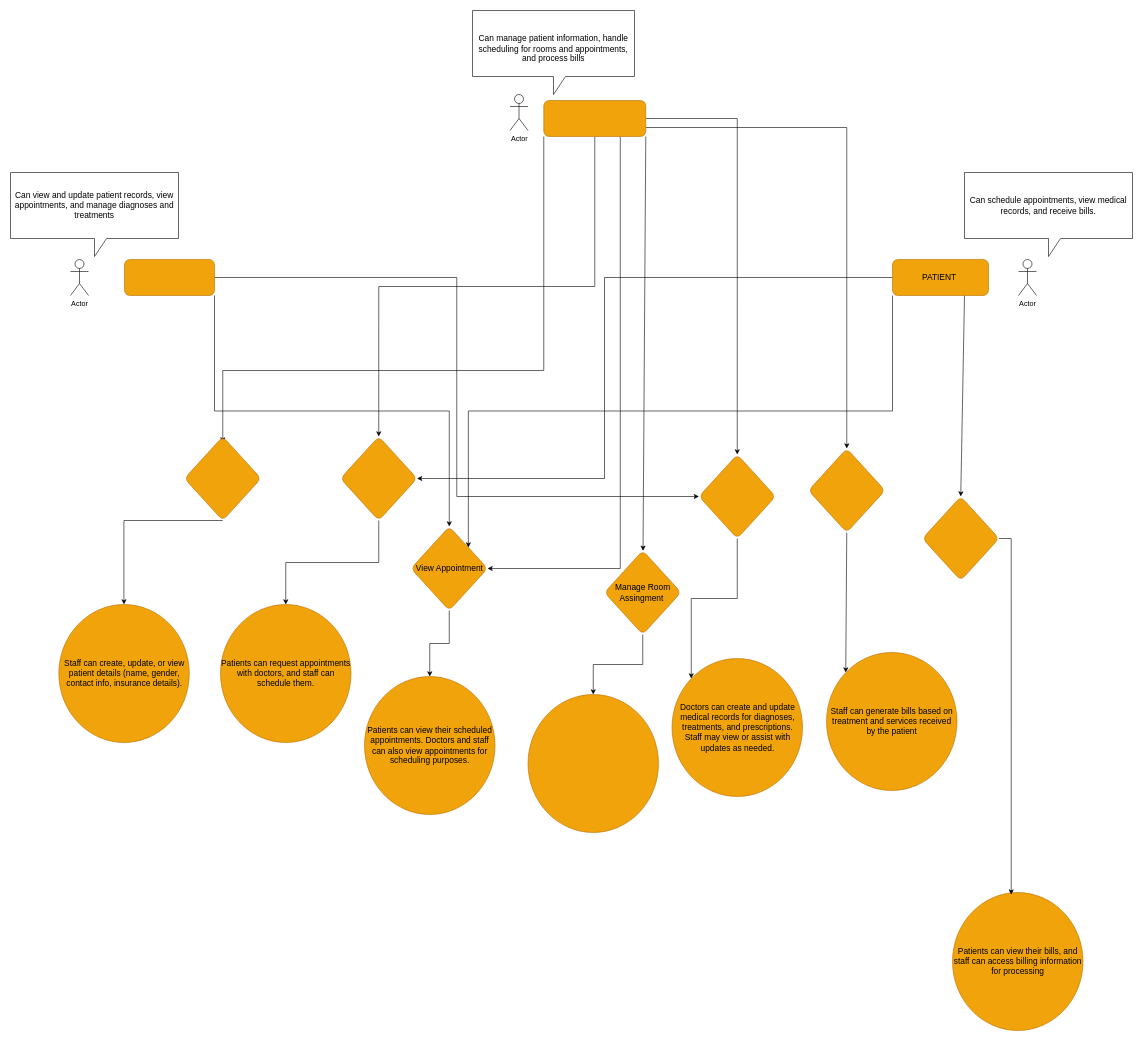
The diagram is 1143 pixels wide and 1041 high, and some of its shapes have lost their labels. The shapes that lost their labels are listed below. From the top down, each one's centre as x and y in pixels, then its label:
At point (594, 118): "STAFF".
At point (169, 277): "DOCTOR".
At point (222, 478): "Manage Patient information".
At point (378, 478): "Schedule Appointment".
At point (737, 496): "Manage Medical Records".
At point (846, 490): "Generate Bill".
At point (960, 538): "View Bill".
At point (592, 763): "Staff can assign rooms to patients and manage room availability status.".
